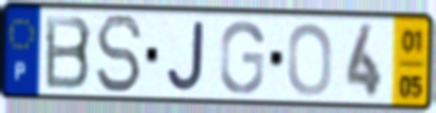4: (344, 21, 385, 101)
B: (43, 13, 95, 92)
G: (217, 19, 267, 97)
J: (165, 18, 207, 94)
O: (286, 21, 335, 99)
S: (94, 12, 145, 96)
